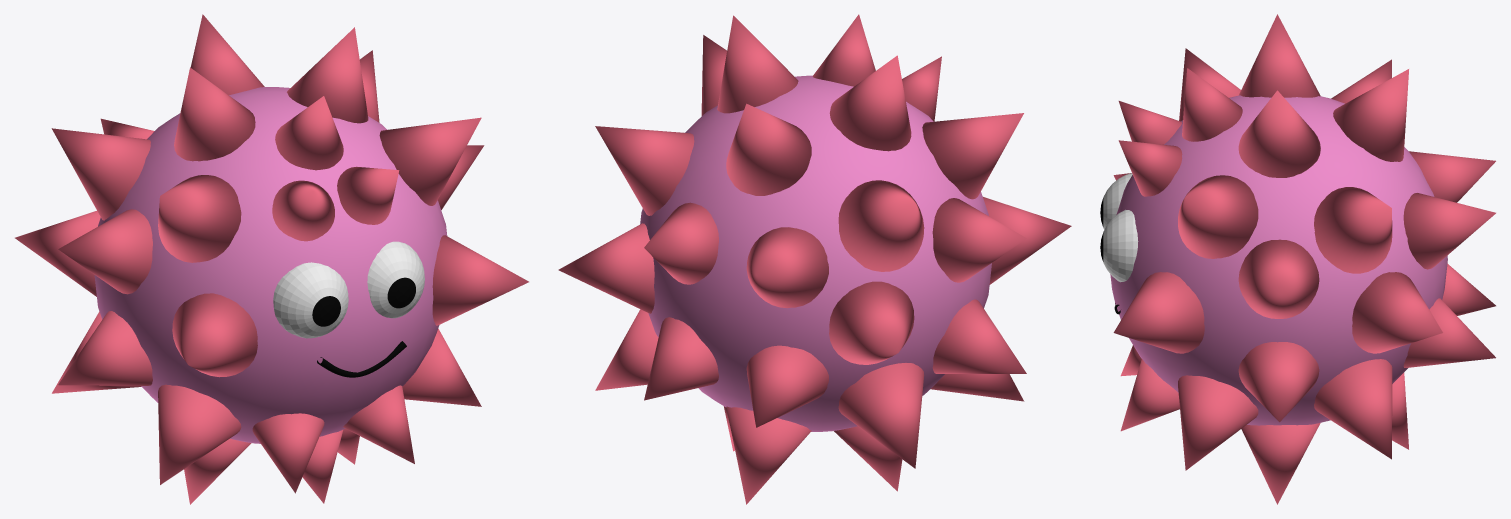
The model's file is bacteria.gltf.
The picture shows the model from 3 angles, left to right: view 1: azimuth 30°, elevation 25°; view 2: azimuth 150°, elevation 25°; view 3: azimuth 270°, elevation 25°; orthographic projection. The views are drawn at different scales.
Parts seen in each view (by area): view 1: Sphere, Cone.010, Cone.011, Cone, Cone.009, Sphere.002, Cone.003, Cone.005, Cone.002, Cone.008, Cone.001, NurbsPath (+1 smaller); view 2: Sphere, Cone.003, Cone.006, Cone.011, Cone, Cone.001, Cone.009, Cone.010, Cone.008, Cone.002; view 3: Sphere, Cone.003, Cone, Cone.010, Cone.006, Cone.011, Cone.009, Cone.001, Cone.002, Sphere.002, Cone.008, Cone.005.
Boxes of the visible parts, <box> form: Sphere: <box>94,87,447,443</box>; Cone.010: <box>158,117,481,484</box>; Cone.011: <box>15,211,528,377</box>; Cone: <box>174,27,368,504</box>; Cone.009: <box>58,145,484,385</box>; Sphere.002: <box>273,241,424,338</box>; Cone.003: <box>51,50,379,393</box>; Cone.005: <box>252,385,414,493</box>; Cone.002: <box>272,166,399,241</box>; Cone.008: <box>275,96,343,503</box>; Cone.001: <box>190,14,264,95</box>; NurbsPath: <box>317,341,406,377</box>; Sphere: <box>640,75,991,431</box>; Cone.003: <box>595,126,924,468</box>; Cone.006: <box>644,202,828,427</box>; Cone.011: <box>558,197,1071,364</box>; Cone: <box>717,15,911,491</box>; Cone.001: <box>726,103,811,504</box>; Cone.009: <box>932,198,1026,373</box>; Cone.010: <box>701,35,1024,401</box>; Cone.008: <box>812,14,875,86</box>; Cone.002: <box>902,56,941,121</box>; Sphere: <box>1110,95,1447,425</box>; Cone.003: <box>1314,59,1392,459</box>; Cone: <box>1238,14,1320,504</box>; Cone.010: <box>1178,48,1258,470</box>; Cone.006: <box>1403,151,1495,367</box>; Cone.011: <box>1113,173,1442,353</box>; Cone.009: <box>1238,239,1319,422</box>; Cone.001: <box>1333,69,1408,449</box>; Cone.002: <box>1118,101,1182,196</box>; Sphere.002: <box>1100,173,1138,282</box>; Cone.008: <box>1182,68,1242,141</box>; Cone.005: <box>1120,345,1179,431</box>.
Size of the model in its own units: 2.75 by 2.7 by 2.34.
